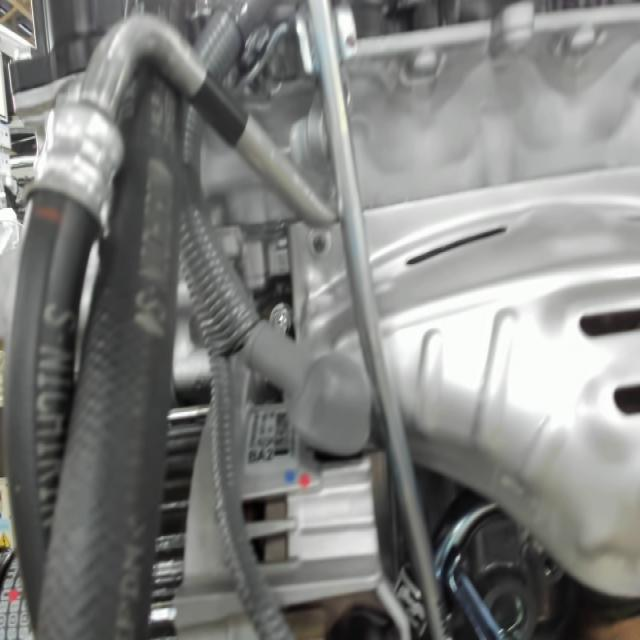Alternator-BA2: (243, 442, 290, 467)
Hose Discharge-HT: (186, 62, 255, 157)
